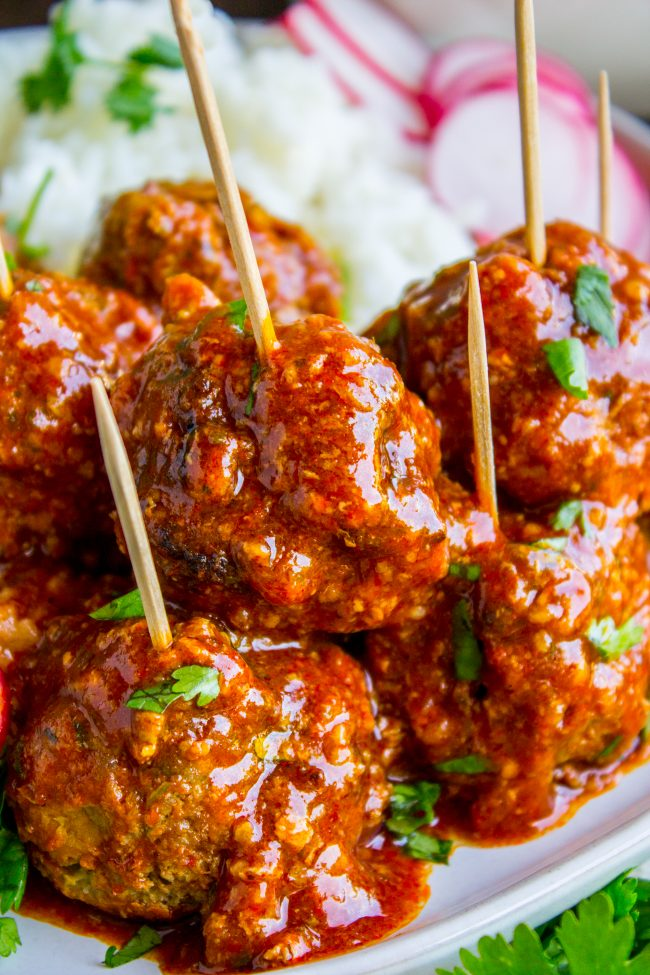meatballs: (100, 314, 618, 766)
